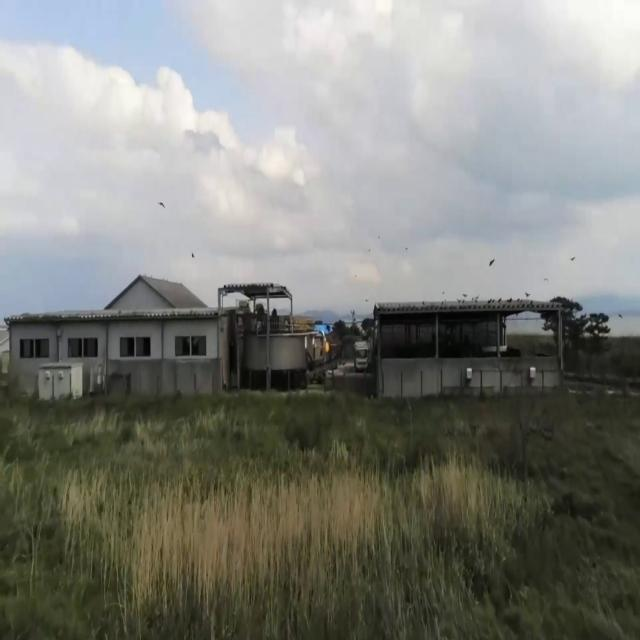bird: (488, 252, 496, 274), (157, 194, 165, 215)
